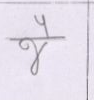ai_matra: (34, 14, 54, 36)
